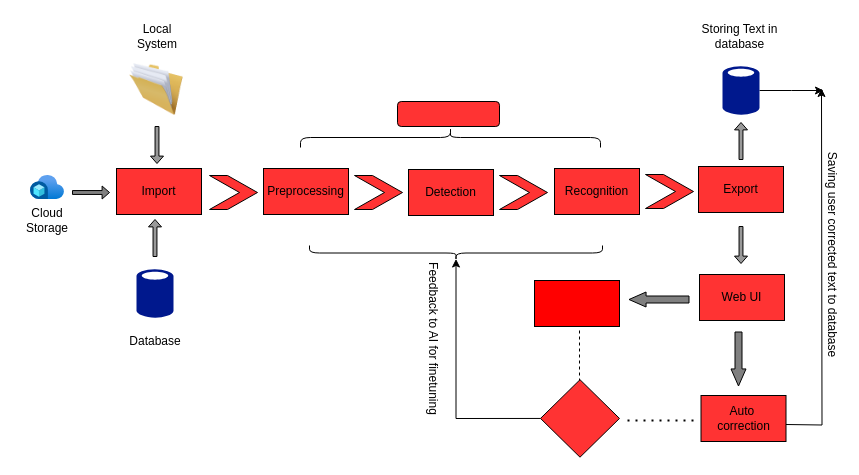
The diagram is 859 pixels wide and 475 high, and some of its shapes have lost their labels. The centre of each missing label's shape, as x and y in pixels:
AI Module: point 448,113
Correction& Feedback: point 580,418
User Manual correction: point 577,303
